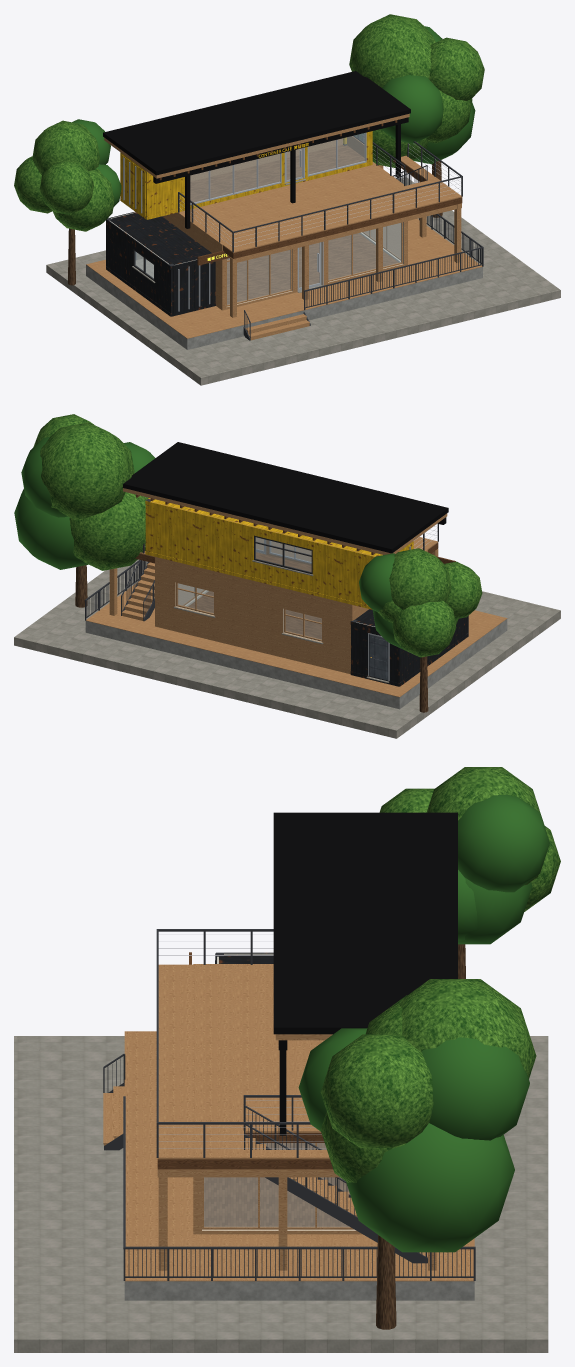
File: b_cafe_container.gltf
3 views of the same model, one above another, from view 1: azimuth 30°, elevation 25°; view 2: azimuth 150°, elevation 25°; view 3: azimuth 270°, elevation 25° (orthographic). The views are drawn at different scales.
Parts seen in each view (by area): view 1: S_cafe_container, D_cafe_container_Cafe_S1_Door0; view 2: S_cafe_container, D_cafe_container_Kitchen_N0_Door0; view 3: S_cafe_container.
Boxes of the visible parts, x1,y1,x2,y2 form: S_cafe_container: [14, 14, 560, 385]; D_cafe_container_Cafe_S1_Door0: [298, 242, 321, 290]; S_cafe_container: [14, 414, 560, 738]; D_cafe_container_Kitchen_N0_Door0: [369, 634, 388, 680]; S_cafe_container: [14, 767, 560, 1352].
Size of the model in its own units: 23.08 by 10.13 by 14.84.
26 materials, 13 textured.
